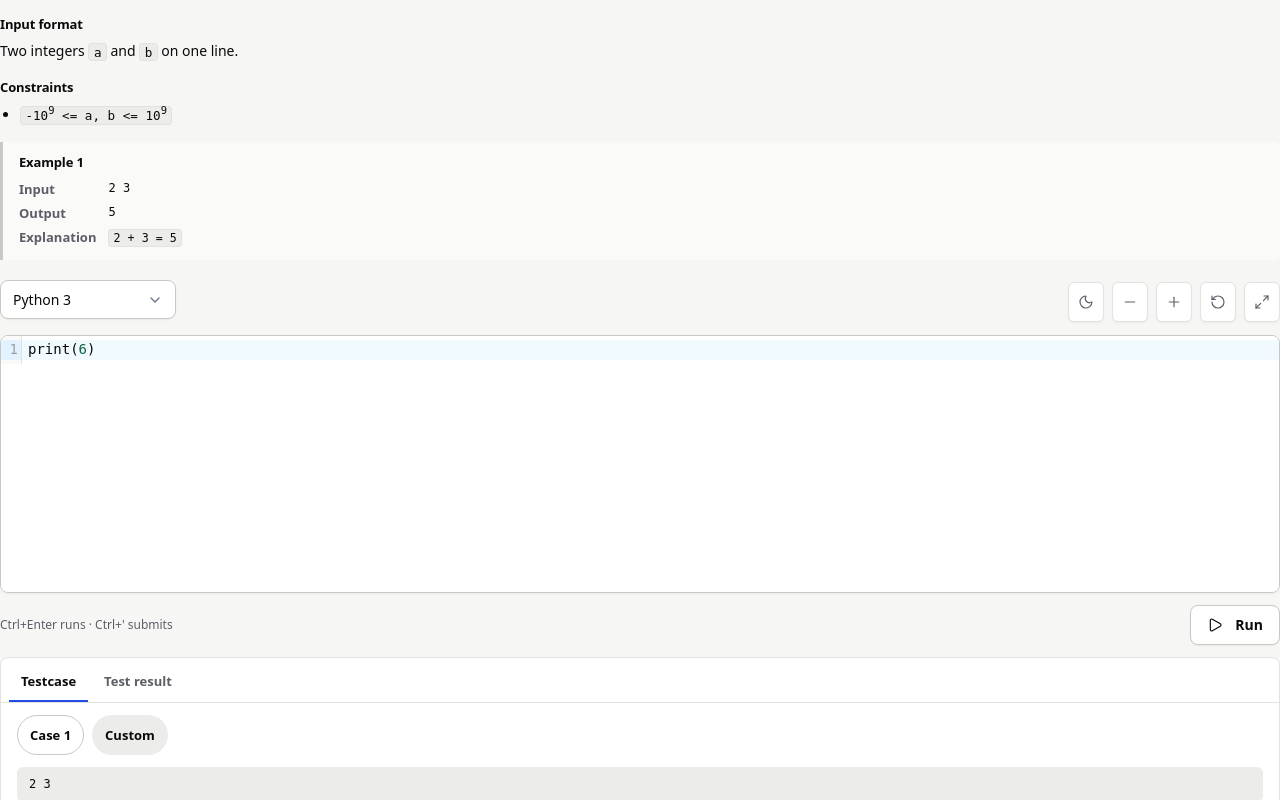
Test: the coding workspace › runs the examples and shows the verdict, what came out, and what was expected
The width and height of the screenshot is (1280, 800).
Click the button "Run": coordinates (1235, 626) [1190, 606, 1279, 646]
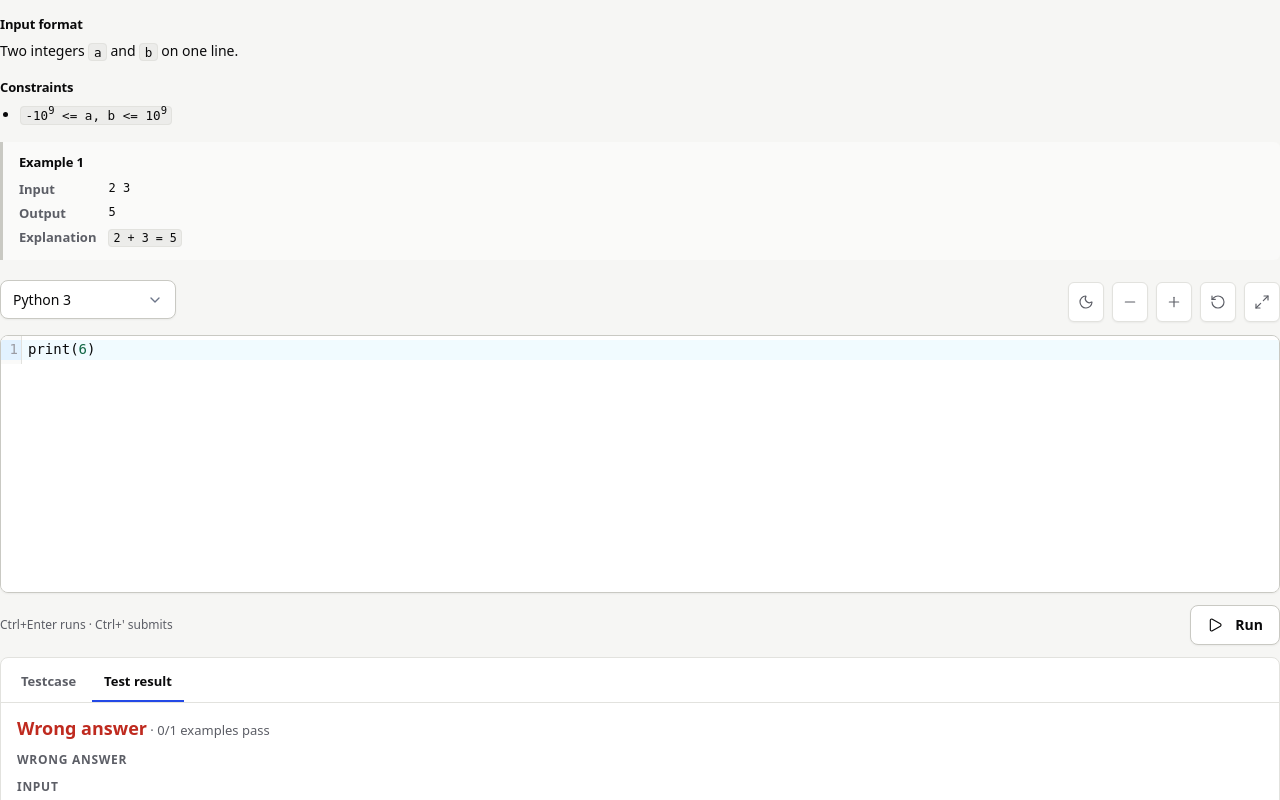
Expected: the element named "Run results" shows "Wrong answer", [17, 716, 147, 740]
Expected: the element named "Run results" shows "0/1 examples pass", [157, 722, 270, 740]
